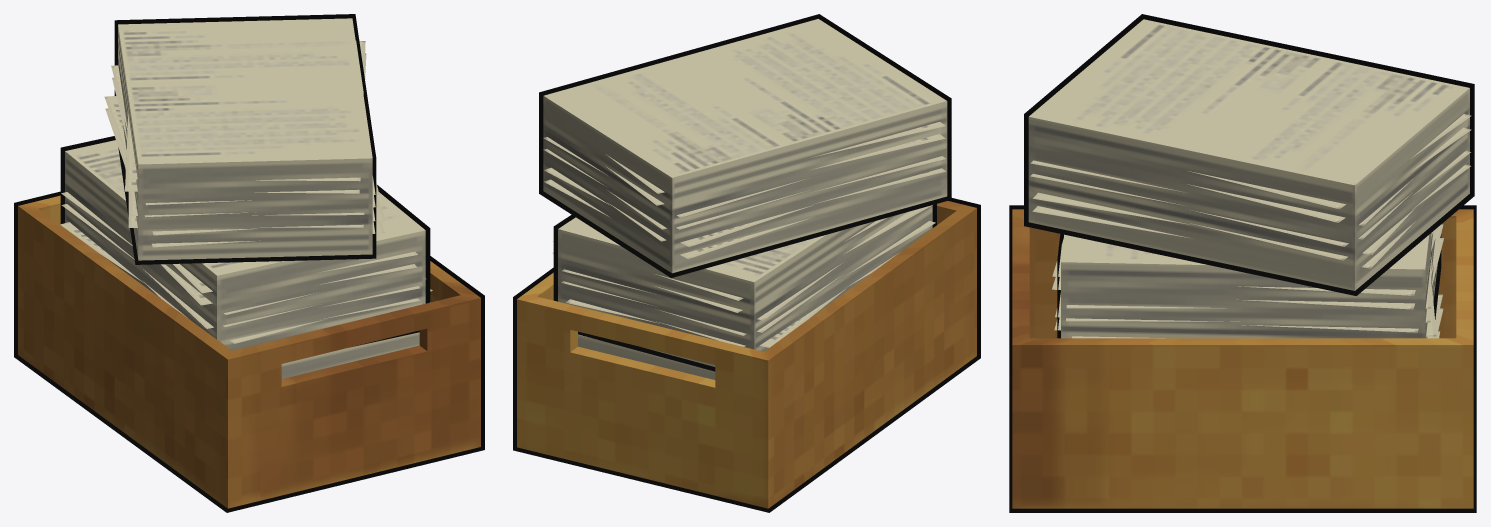
The model's file is Caixa com docs 2.glb.
3 views of the same model, side by side, from view 1: azimuth 30°, elevation 25°; view 2: azimuth 150°, elevation 25°; view 3: azimuth 270°, elevation 25° (orthographic). The views are drawn at different scales.
Parts seen in each view (by area): view 1: Caixa papelão aberta; view 2: Caixa papelão aberta; view 3: Caixa papelão aberta.
Boxes of the visible parts, left/top/right/bottom form: Caixa papelão aberta: left=14, top=14, right=484, bottom=512; Caixa papelão aberta: left=513, top=14, right=980, bottom=512; Caixa papelão aberta: left=1009, top=14, right=1476, bottom=512.
Bounding box in the file's own units: 0.2434 × 0.2257 × 0.278.
3 materials, 2 textured.
